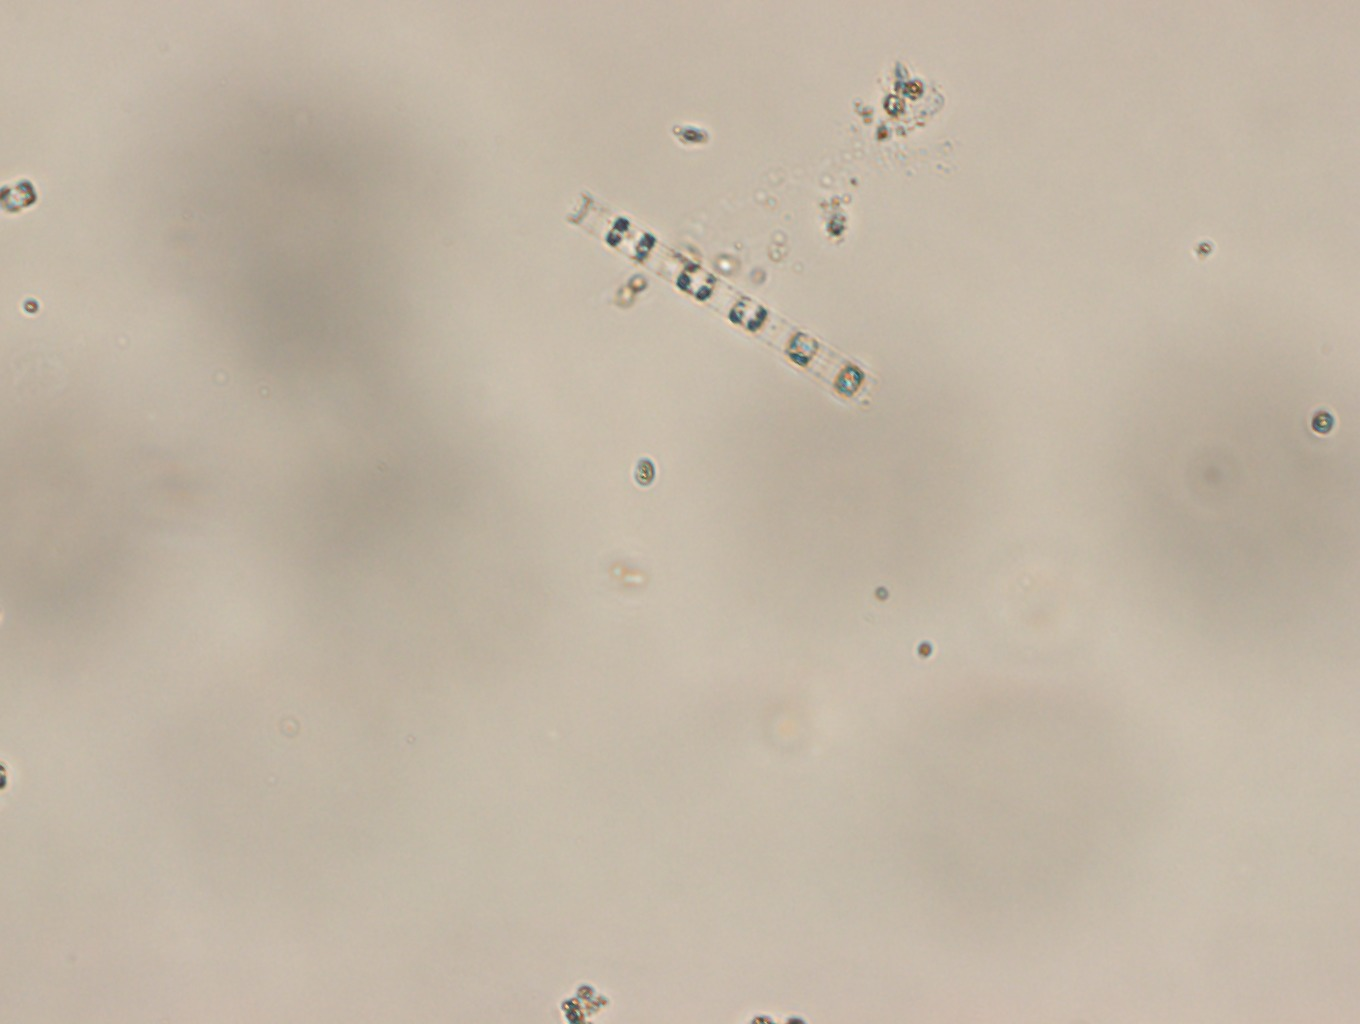skeletonema: (563, 191, 874, 404)
